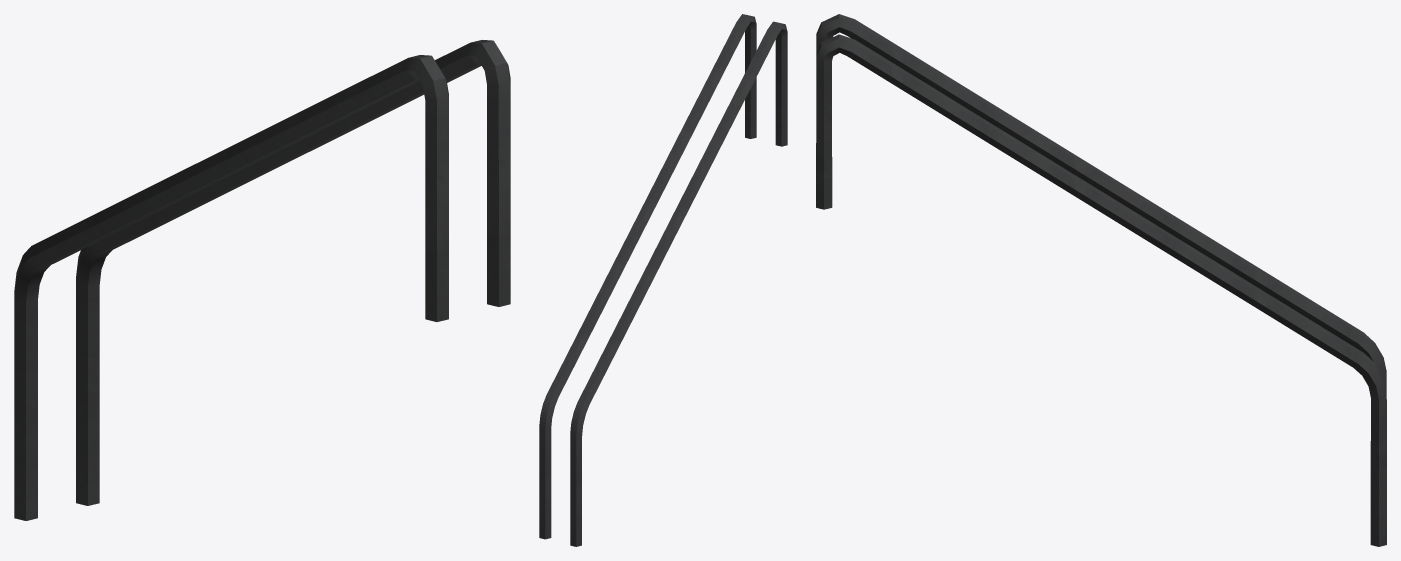
Rendered from Handrails_3.fbx.
The picture shows the model from 3 angles, left to right: view 1: azimuth 30°, elevation 25°; view 2: azimuth 150°, elevation 25°; view 3: azimuth 270°, elevation 25°; orthographic projection. The views are drawn at different scales.
Parts seen in each view (by area): view 1: Handrails_3; view 2: Handrails_3; view 3: Handrails_3.
Boxes of the visible parts, x1,y1,x2,y2 form: Handrails_3: (14,40,510,520); Handrails_3: (539,14,787,546); Handrails_3: (816,14,1386,546).
Bounding box in the file's own units: 0.3584 × 3.01 × 3.07.
